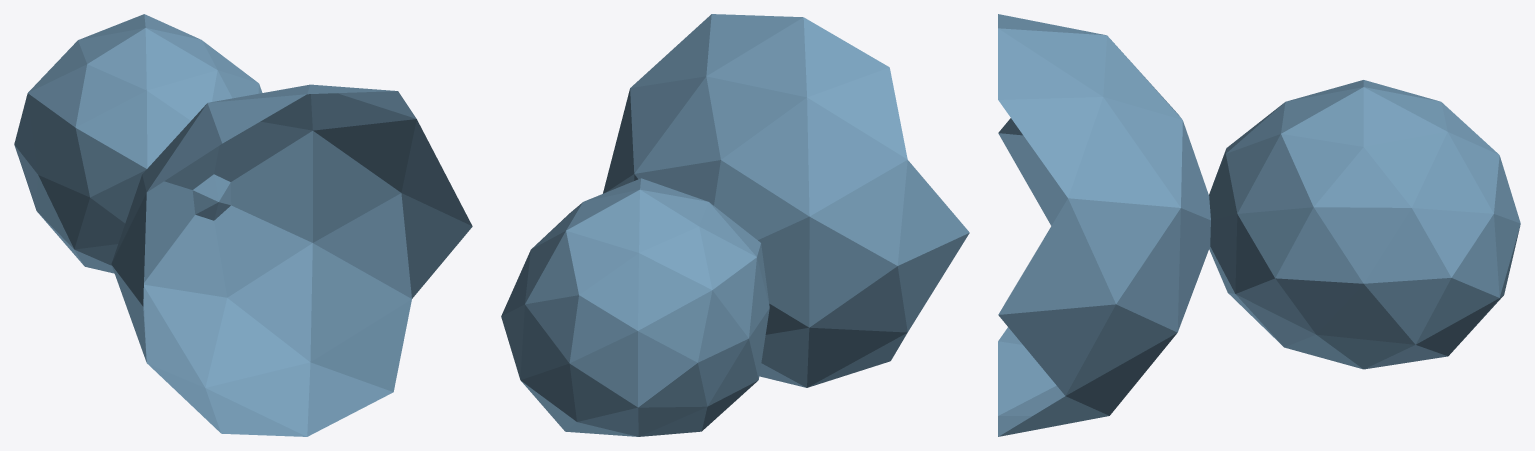
The model's file is ecto.obj.
3 renders of one model, left to right at view 1: azimuth 30°, elevation 25°; view 2: azimuth 150°, elevation 25°; view 3: azimuth 270°, elevation 25°, orthographic. The views are drawn at different scales.
Parts seen in each view (by area): view 1: part0, part1; view 2: part0, part1; view 3: part1, part0.
Part boxes in pixels (<box>): part0: <box>111,84,472,436</box>; part1: <box>14,14,262,273</box>; part0: <box>603,14,969,387</box>; part1: <box>501,178,769,436</box>; part1: <box>1209,80,1520,369</box>; part0: <box>998,14,1210,436</box>.
Bounding box in the file's own units: 0.671 × 0.667 × 0.815.
